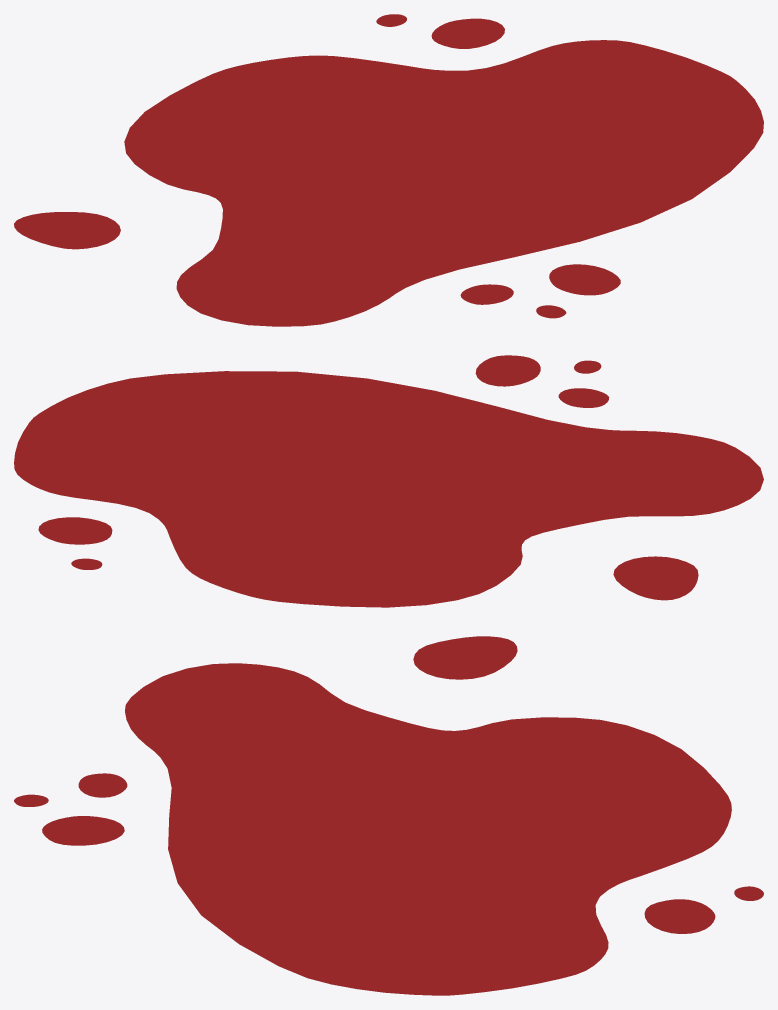
The model's file is BloodPool.fbx.
The picture shows the model from 3 angles, top to bottom: view 1: azimuth 30°, elevation 25°; view 2: azimuth 150°, elevation 25°; view 3: azimuth 270°, elevation 25°; orthographic projection. The views are drawn at different scales.
Parts seen in each view (by area): view 1: Plane; view 2: Plane; view 3: Plane.
Boxes of the visible parts, left/top/right/bottom form: Plane: left=14, top=14, right=763, bottom=326; Plane: left=14, top=355, right=763, bottom=607; Plane: left=14, top=636, right=763, bottom=995.
Size of the model in its own units: 173 by 2.48e-05 by 152.
